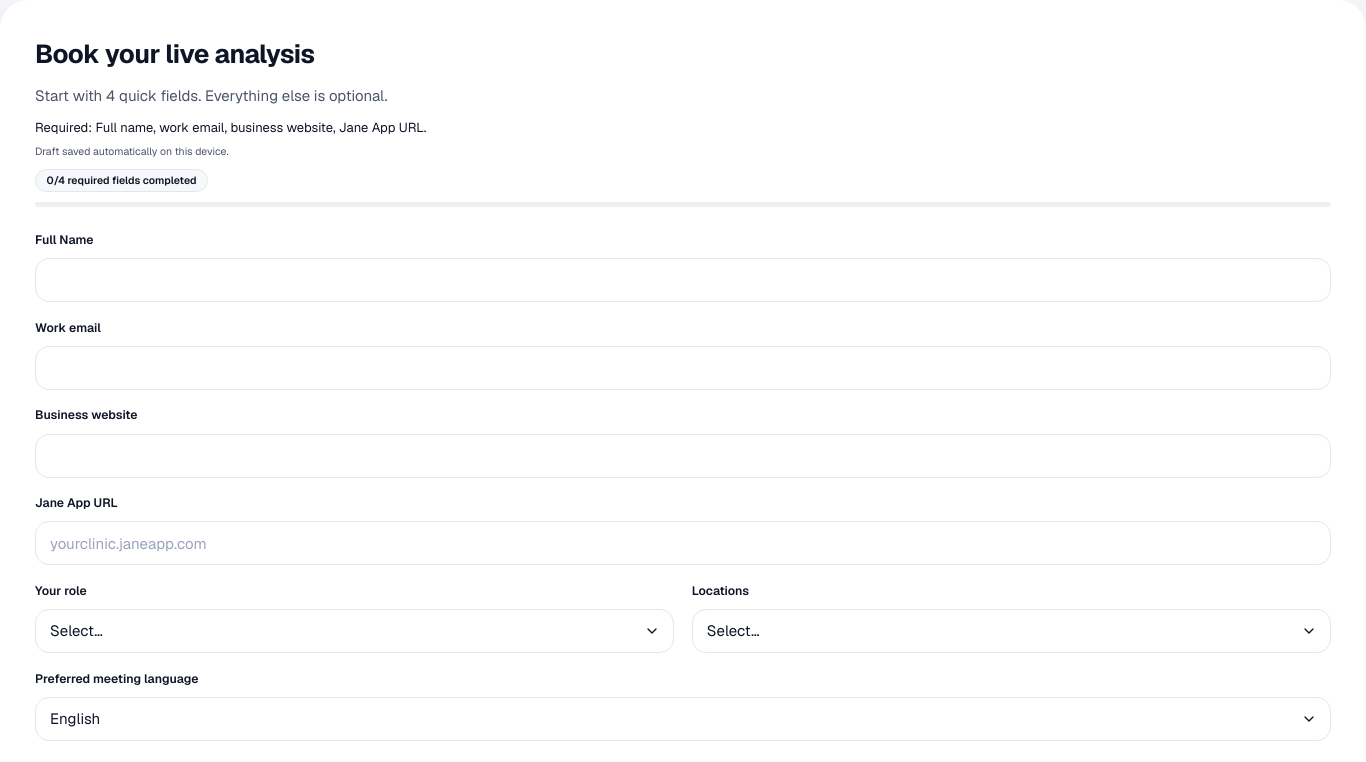
Test: demo form › does not send while a required field is missing, and says why
Type "Sam Lee" into the field labelled "Full Name" at (683, 280), box x1=35 y1=258 x2=1331 y2=302
(page scrolled)
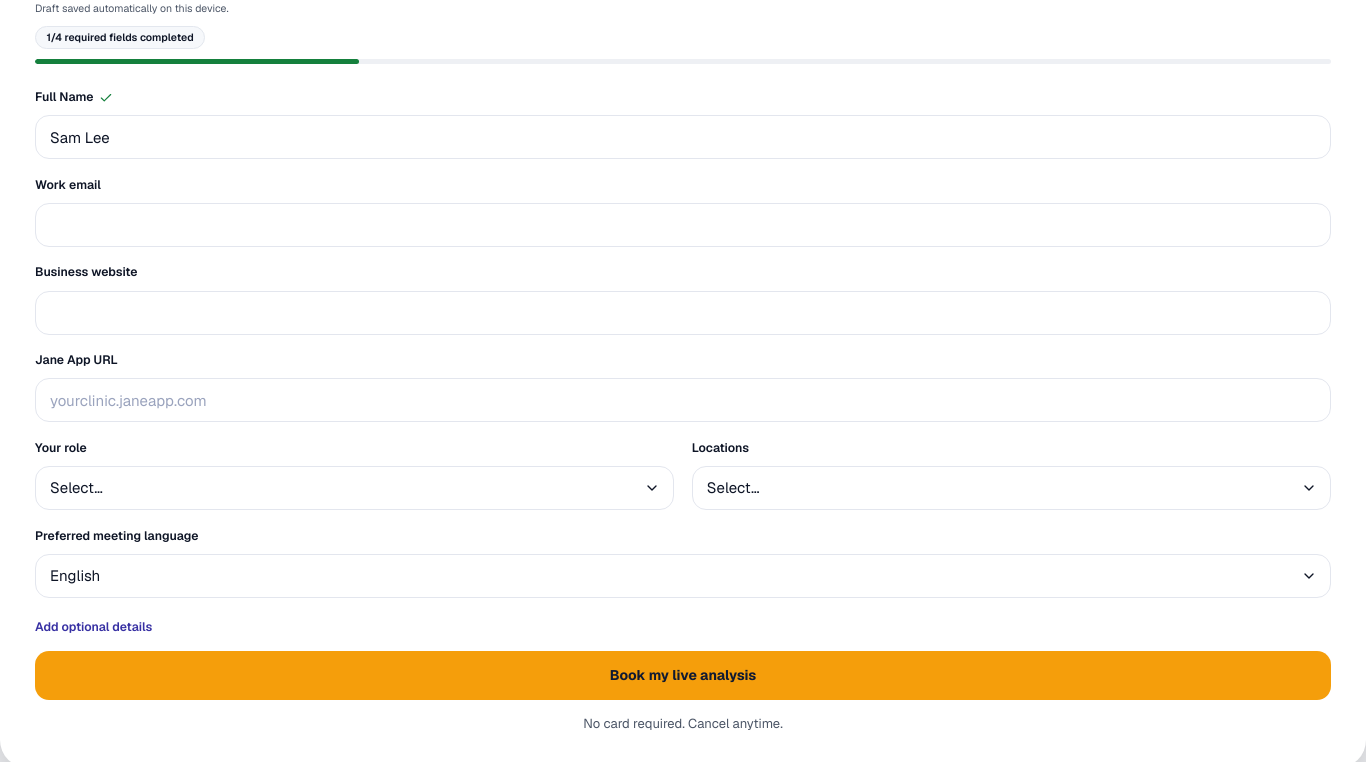
Click the button "Book my live analysis" at (683, 675), box x1=35 y1=651 x2=1331 y2=700
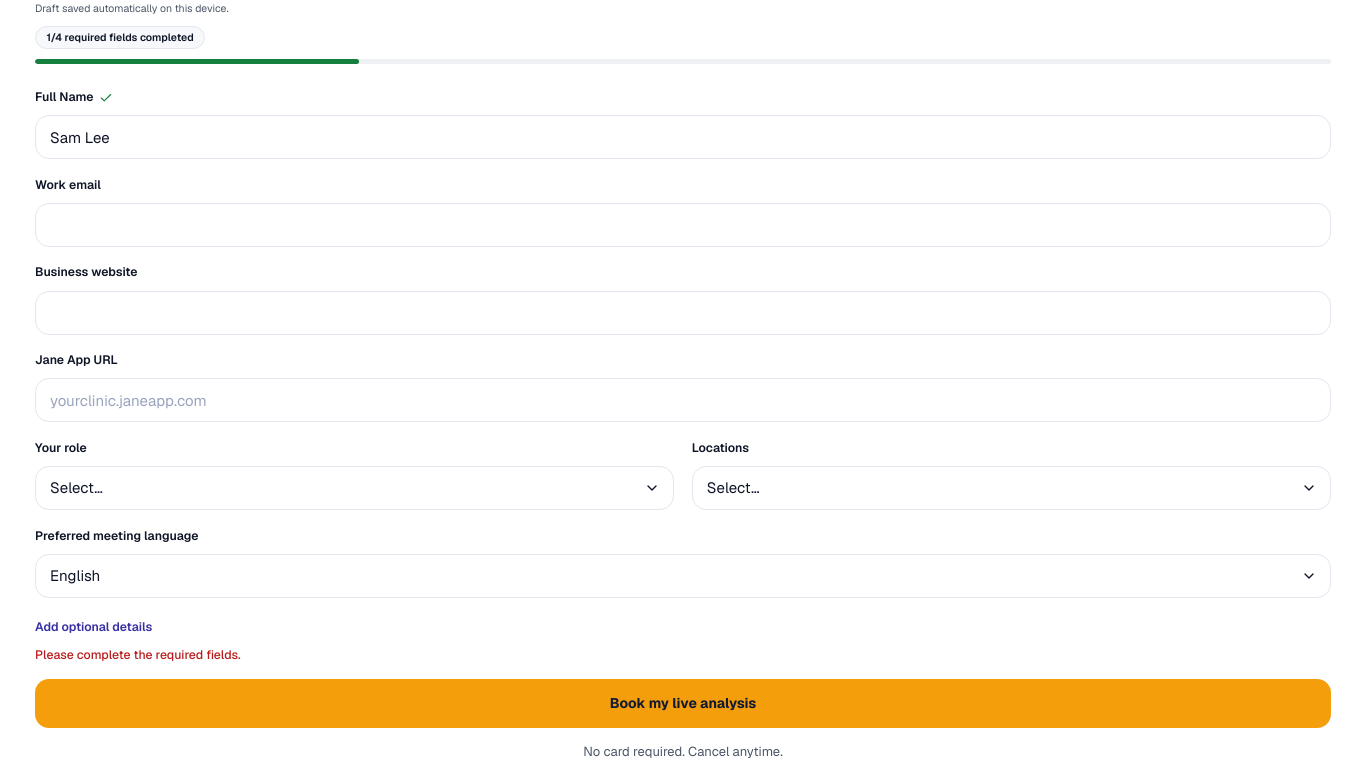
Now the message shows "complete the required fields", box x1=35 y1=647 x2=241 y2=663
